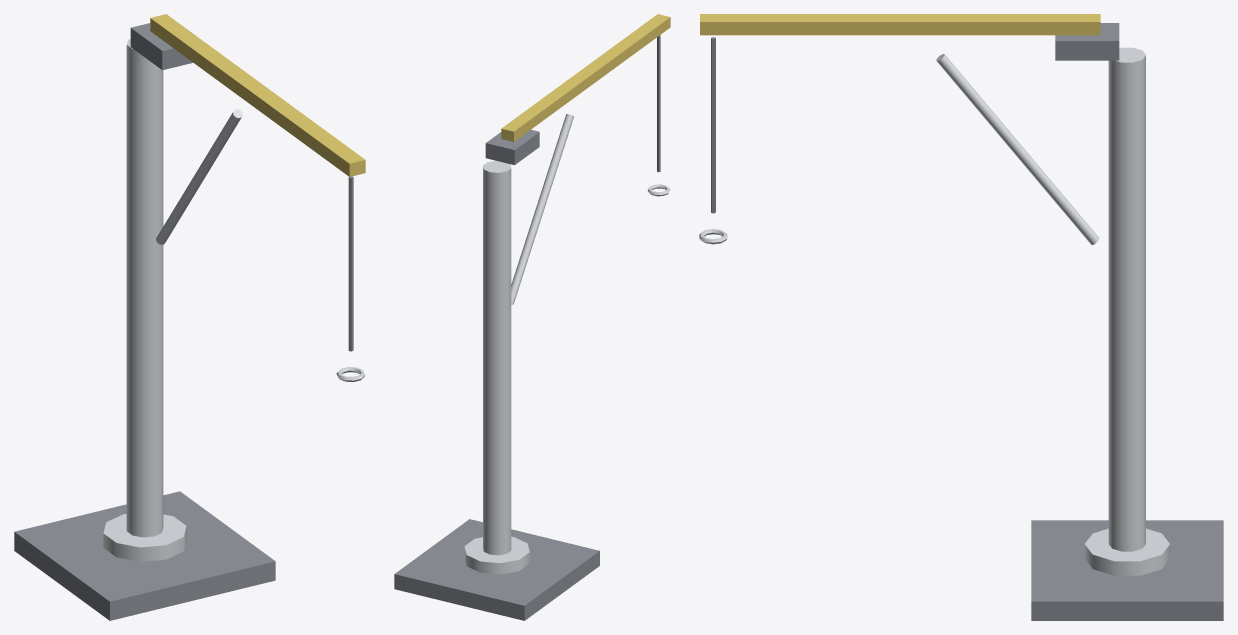
The model's file is QuayDavit.fbx.
3 renders of one model, left to right at view 1: azimuth 30°, elevation 25°; view 2: azimuth 150°, elevation 25°; view 3: azimuth 270°, elevation 25°, orthographic. The views are drawn at different scales.
Parts seen in each view (by area): view 1: LOD0; view 2: LOD0; view 3: LOD0.
Part boxes in pixels (x1,y1,x2,y2): LOD0: (14, 14, 365, 620); LOD0: (394, 14, 670, 620); LOD0: (699, 14, 1223, 620).
Size of what is drawn, in the model's own units: 72 by 232 by 196.
